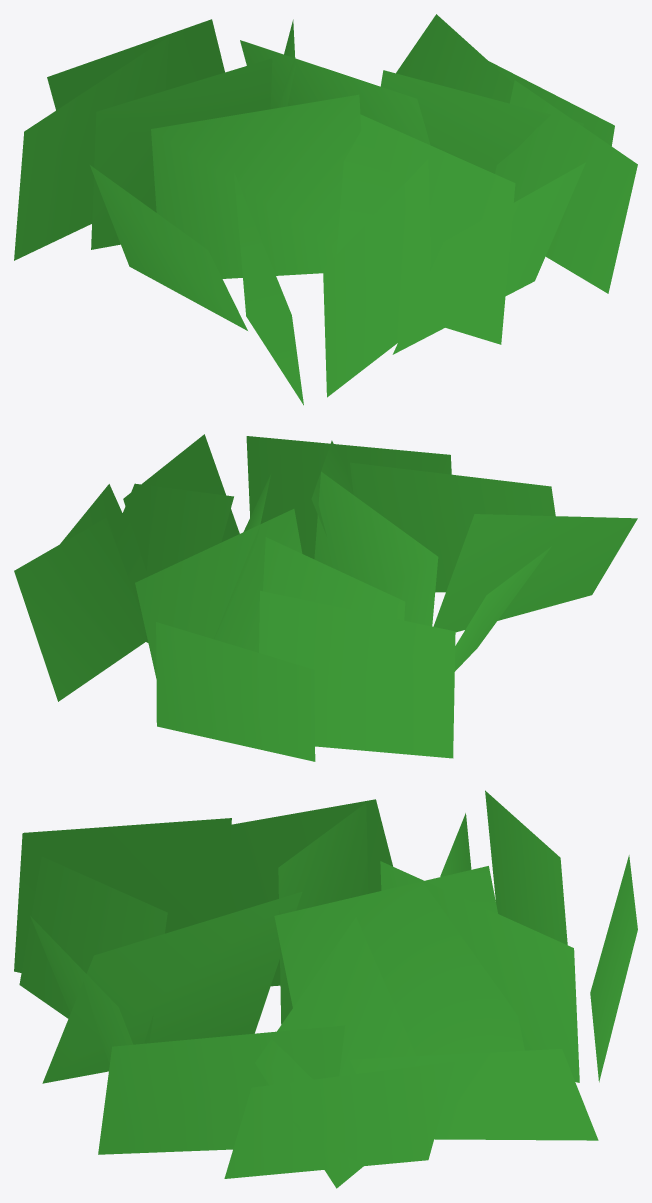
Rendered from Plant_Grass_01.fbx.
The picture shows the model from 3 angles, top to bottom: view 1: azimuth 30°, elevation 25°; view 2: azimuth 150°, elevation 25°; view 3: azimuth 270°, elevation 25°; orthographic projection. The views are drawn at different scales.
Parts seen in each view (by area): view 1: Plant_Grass_01_LOD1; view 2: Plant_Grass_01_LOD1; view 3: Plant_Grass_01_LOD1.
Part boxes in pixels (<box>): Plant_Grass_01_LOD1: <box>14,14,637,405</box>; Plant_Grass_01_LOD1: <box>14,434,637,761</box>; Plant_Grass_01_LOD1: <box>14,790,637,1188</box>.
Size of the model in its own units: 59.82 by 21.13 by 60.31.
